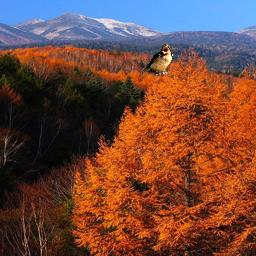Swallow: (142, 44, 174, 75)
